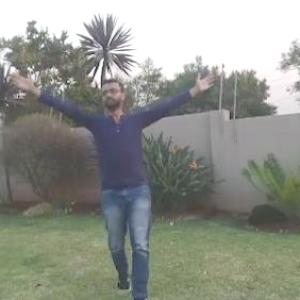takeoff: (1, 46, 236, 290)
